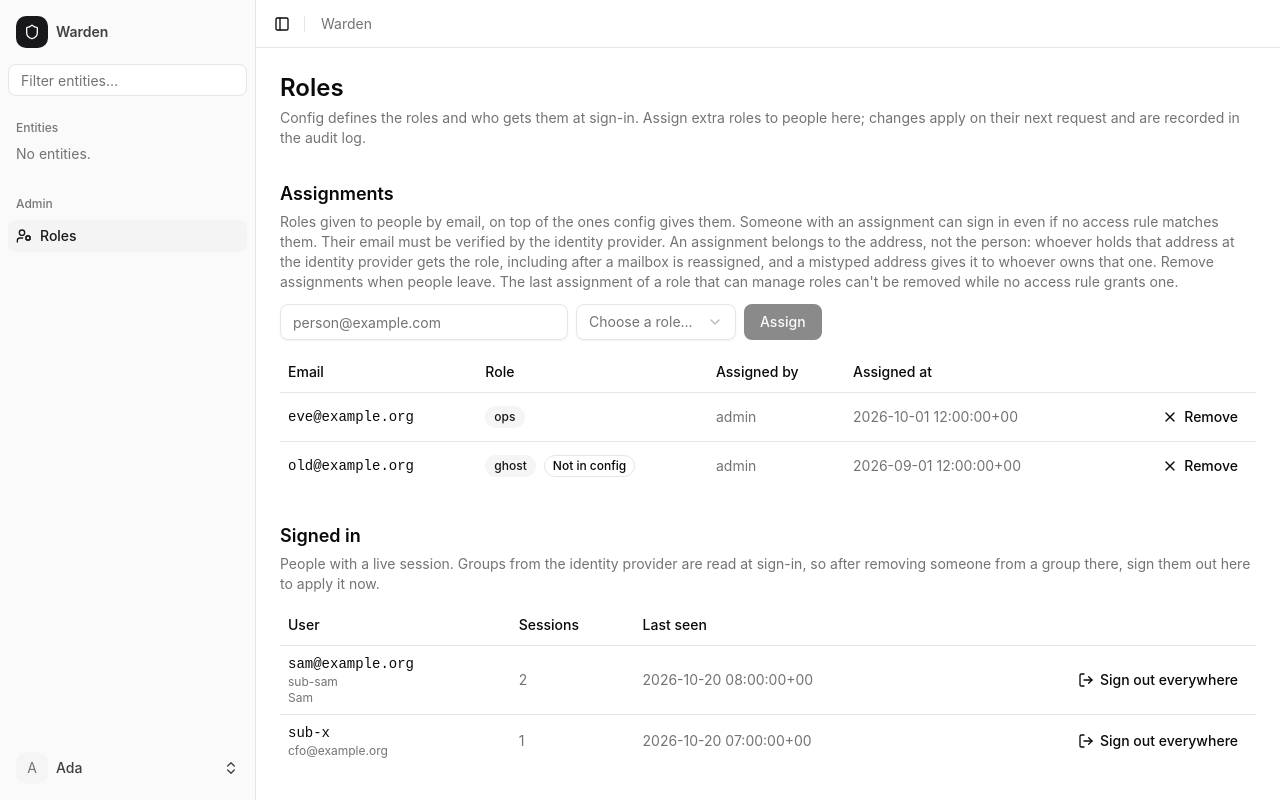
Test: roles page › lists who is signed in and signs a user out everywhere
The image size is (1280, 800).
What coordinates should you click on to do the following:
click the button with aria-label "Sign out sam@example.org everywhere"
I would click on:
 (1158, 680)
Its box is top-left (1068, 664), bottom-right (1248, 696).
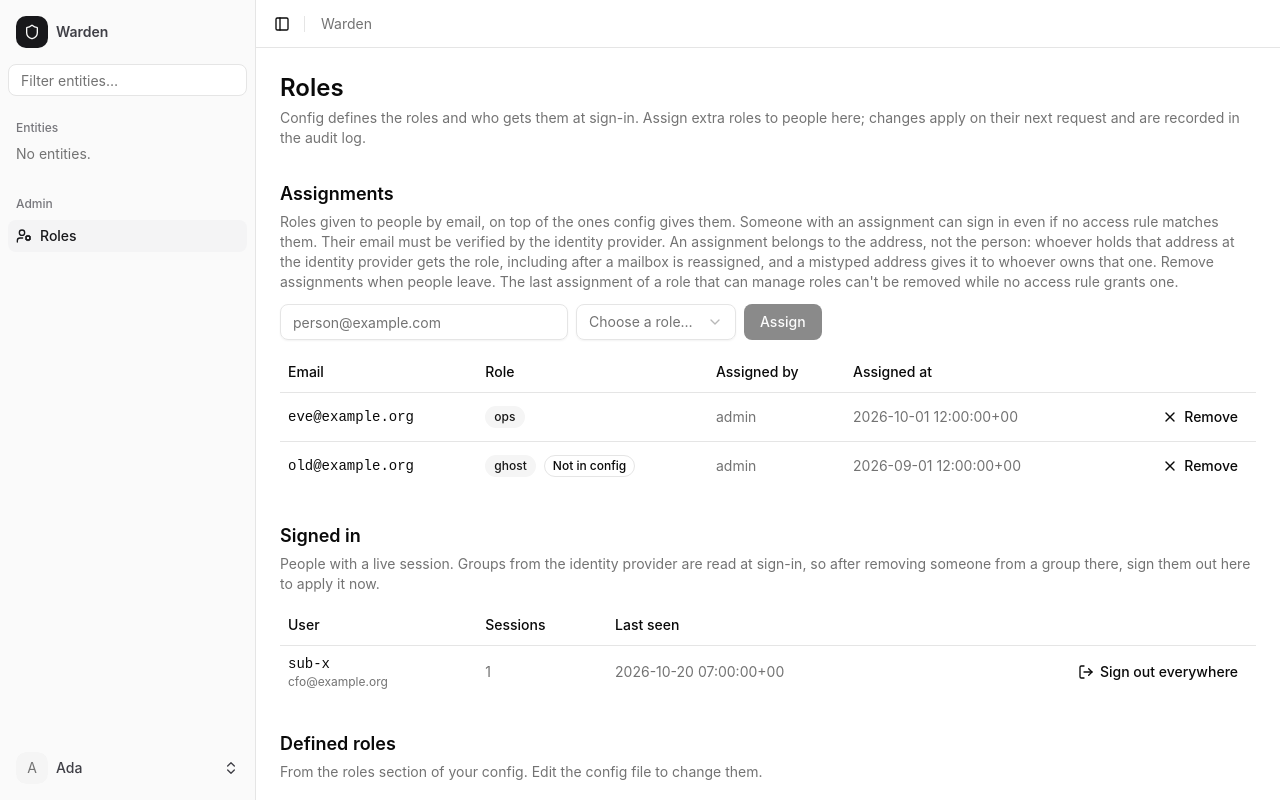
Expected: the text "sub-sam" is gone
